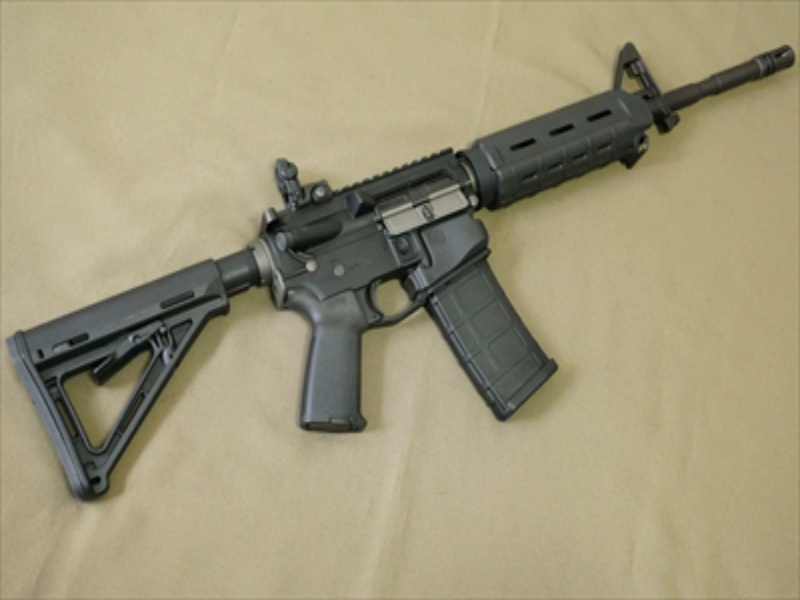weapon: (15, 16, 799, 507)
